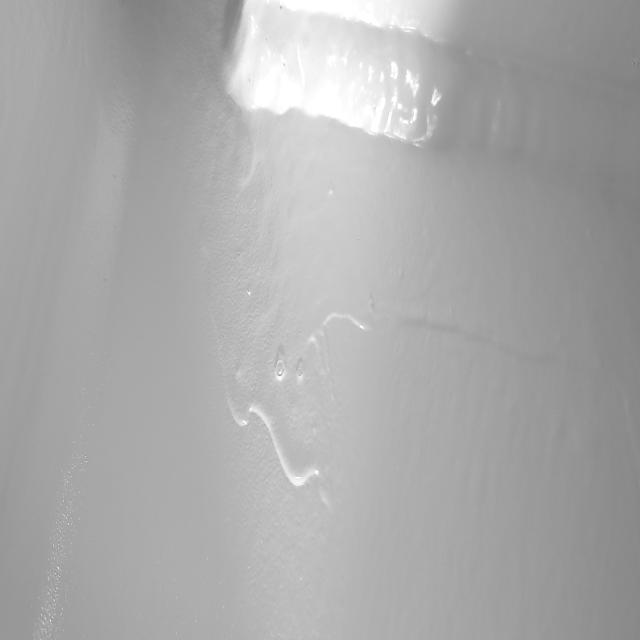paint drips: (218, 258, 376, 531), (381, 278, 604, 396)
